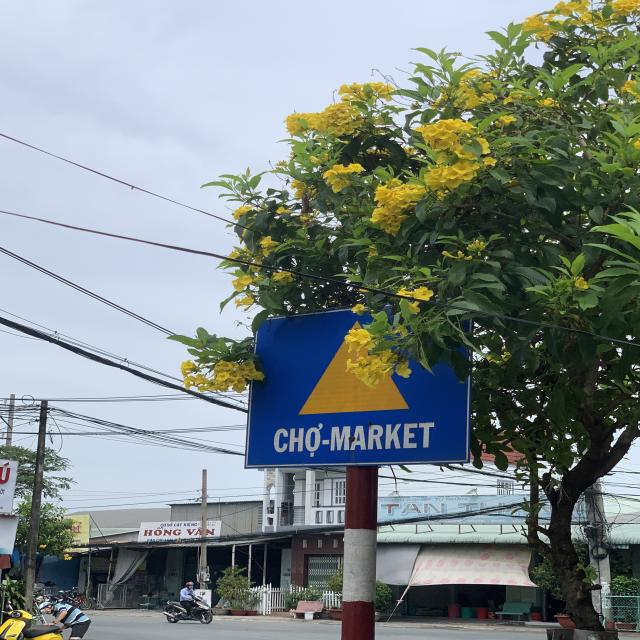Cho_Quay_Xe: (246, 299, 470, 469)
